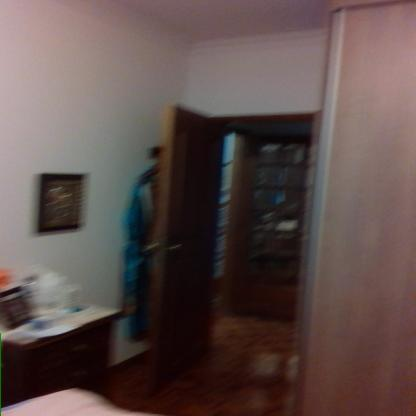open: (143, 99, 323, 406)
